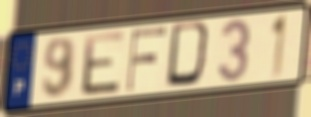1: (269, 10, 292, 82)
3: (216, 16, 252, 86)
9: (41, 35, 75, 101)
D: (164, 19, 215, 90)
E: (80, 29, 127, 98)
F: (124, 24, 169, 94)
